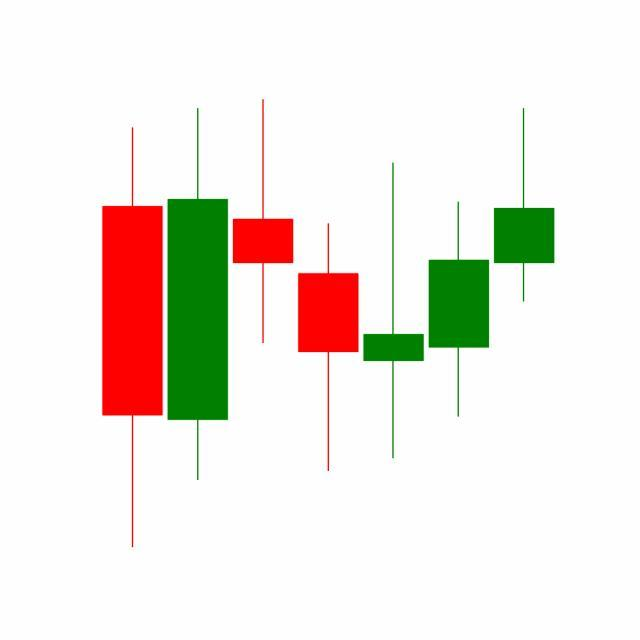Hikkake Pattern: (229, 100, 555, 477)
